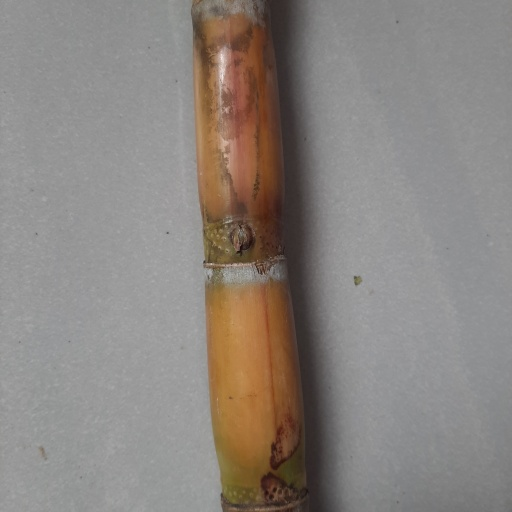Bud: (229, 221, 253, 256)
